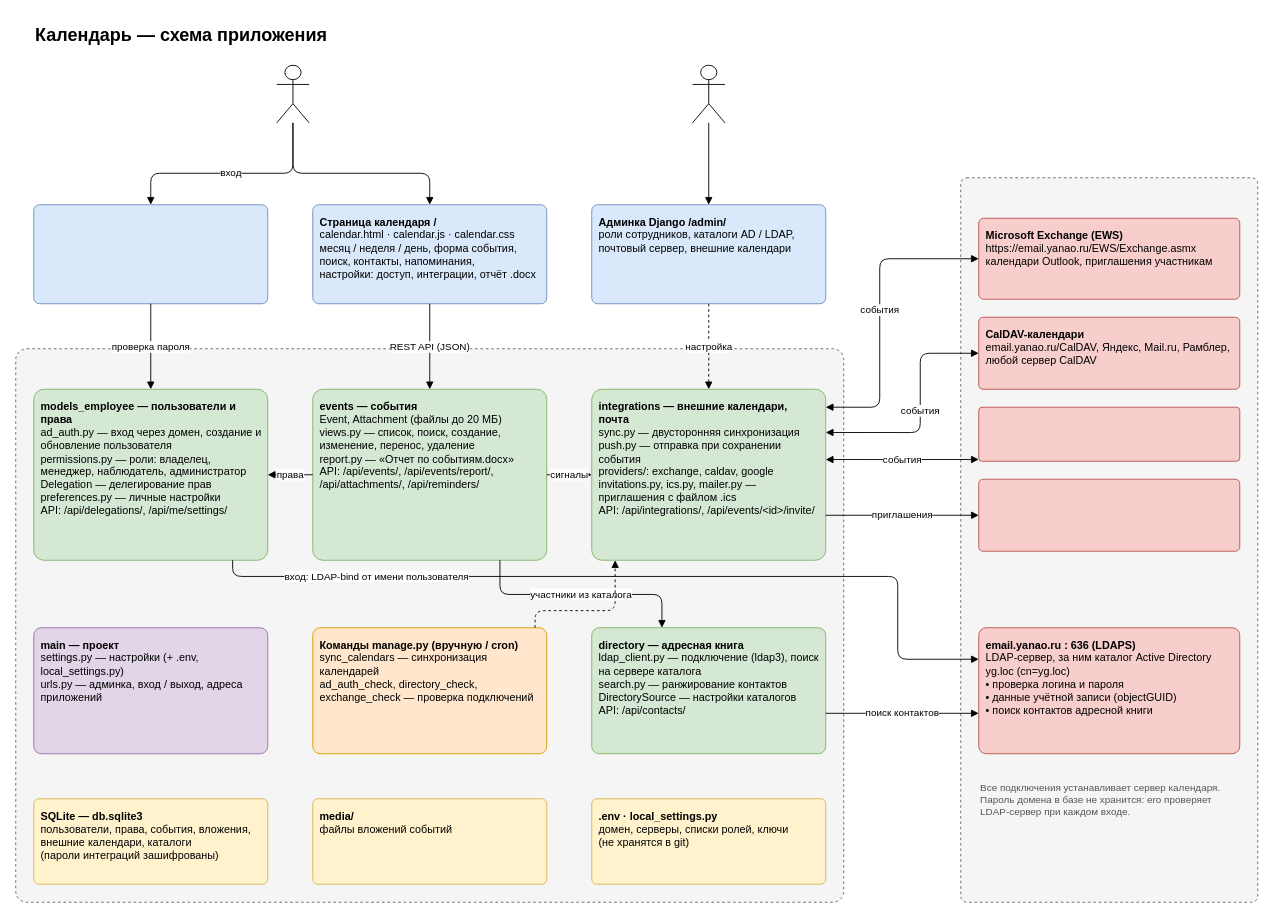
Image size: 1274x918. Some labels were removed from this diagram. The shapes that lost their labels are listed below. From the top down, each one's box as (x1, y1, x2, y2) in pixels, then its label:
(276, 64, 309, 123): Сотрудник (браузер)
(692, 64, 725, 123): Администратор (браузер)
(33, 204, 268, 304): Страница входа /accounts/login/ логин и пароль домена yanao.ru
(978, 406, 1240, 461): Google Calendar OAuth 2.0 + Calendar API
(978, 478, 1240, 551): Почтовый сервер (SMTP) email.yanao.ru : 587, StartTLS письма-приглашения с .ics
(960, 177, 1258, 902): Внешние системы
(15, 348, 844, 902): Django-приложение (проект main · Python 3.11 · Django 5.2)
